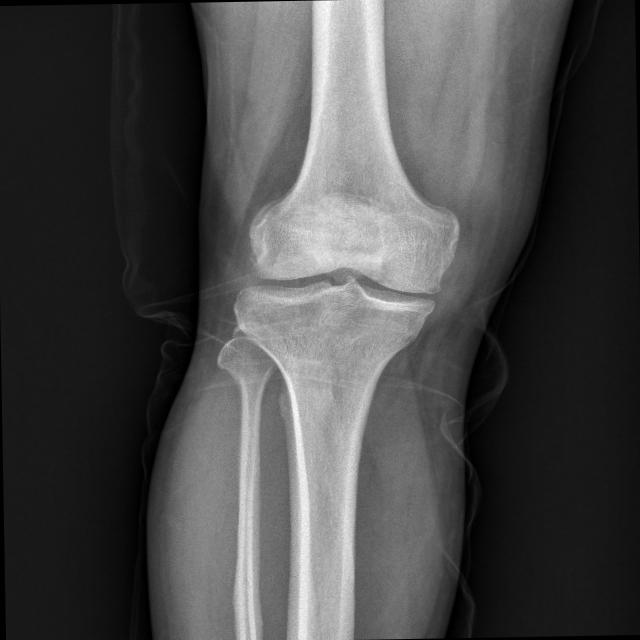Knee: (232, 197, 464, 351)
